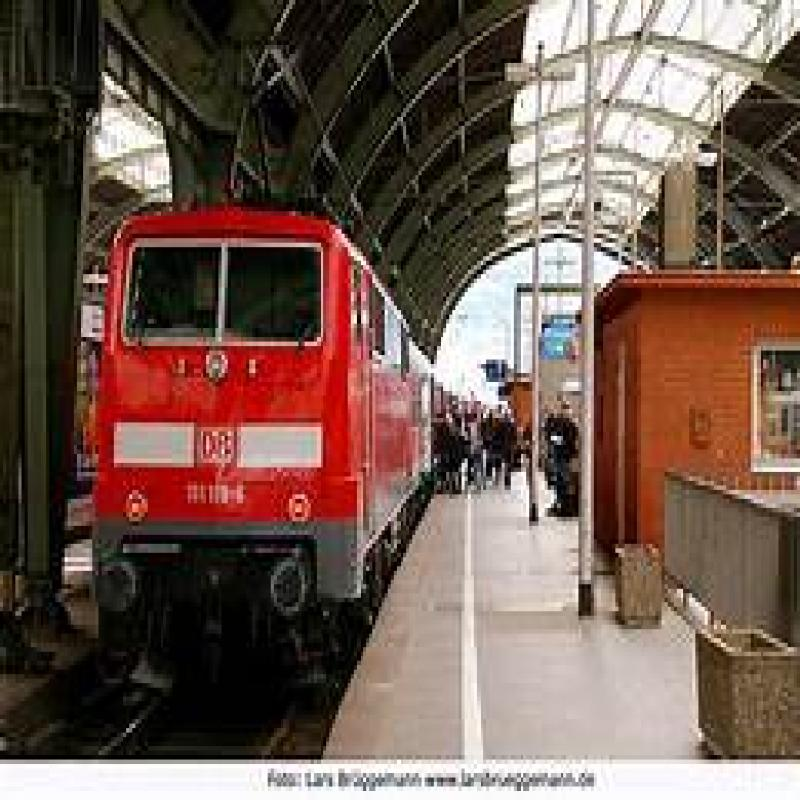train: (78, 190, 419, 662)
